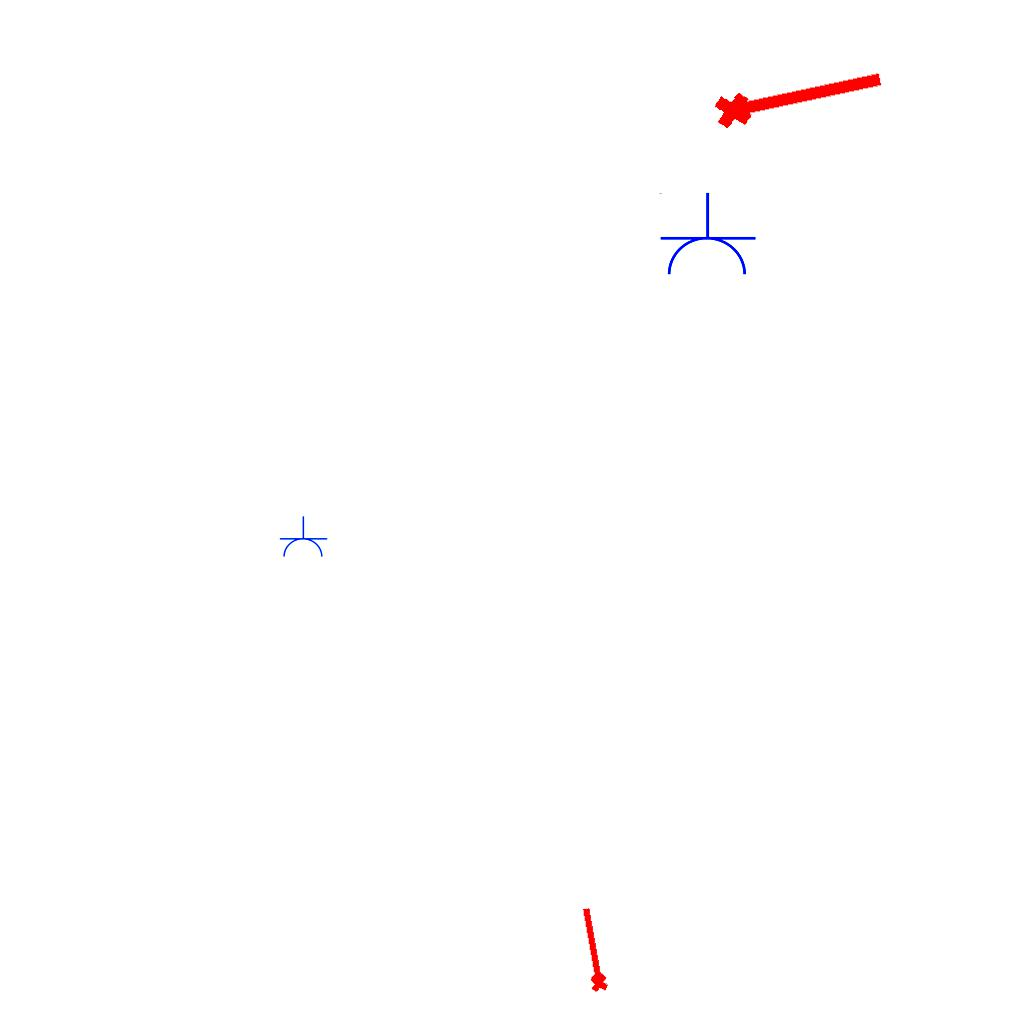ASR_Ansaugoeffnung: (708, 53, 890, 135), (573, 904, 611, 995)
Schukosteckdose_einfach: (657, 192, 757, 279), (278, 516, 328, 559)
